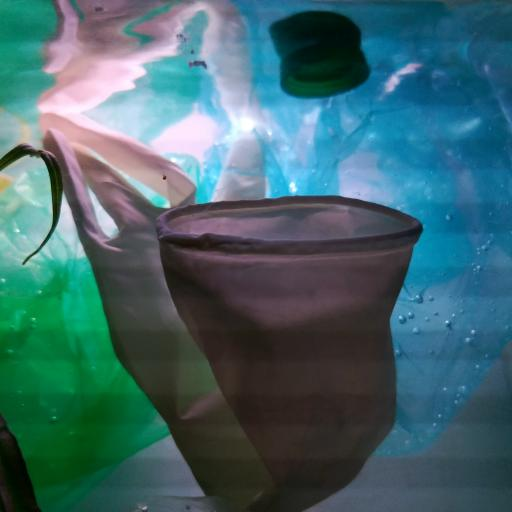bottle_cap: (281, 37, 371, 98)
glove: (38, 104, 422, 512)
plastic_bag: (144, 60, 512, 457), (1, 167, 217, 501)
plastic_cup: (467, 9, 512, 124)
